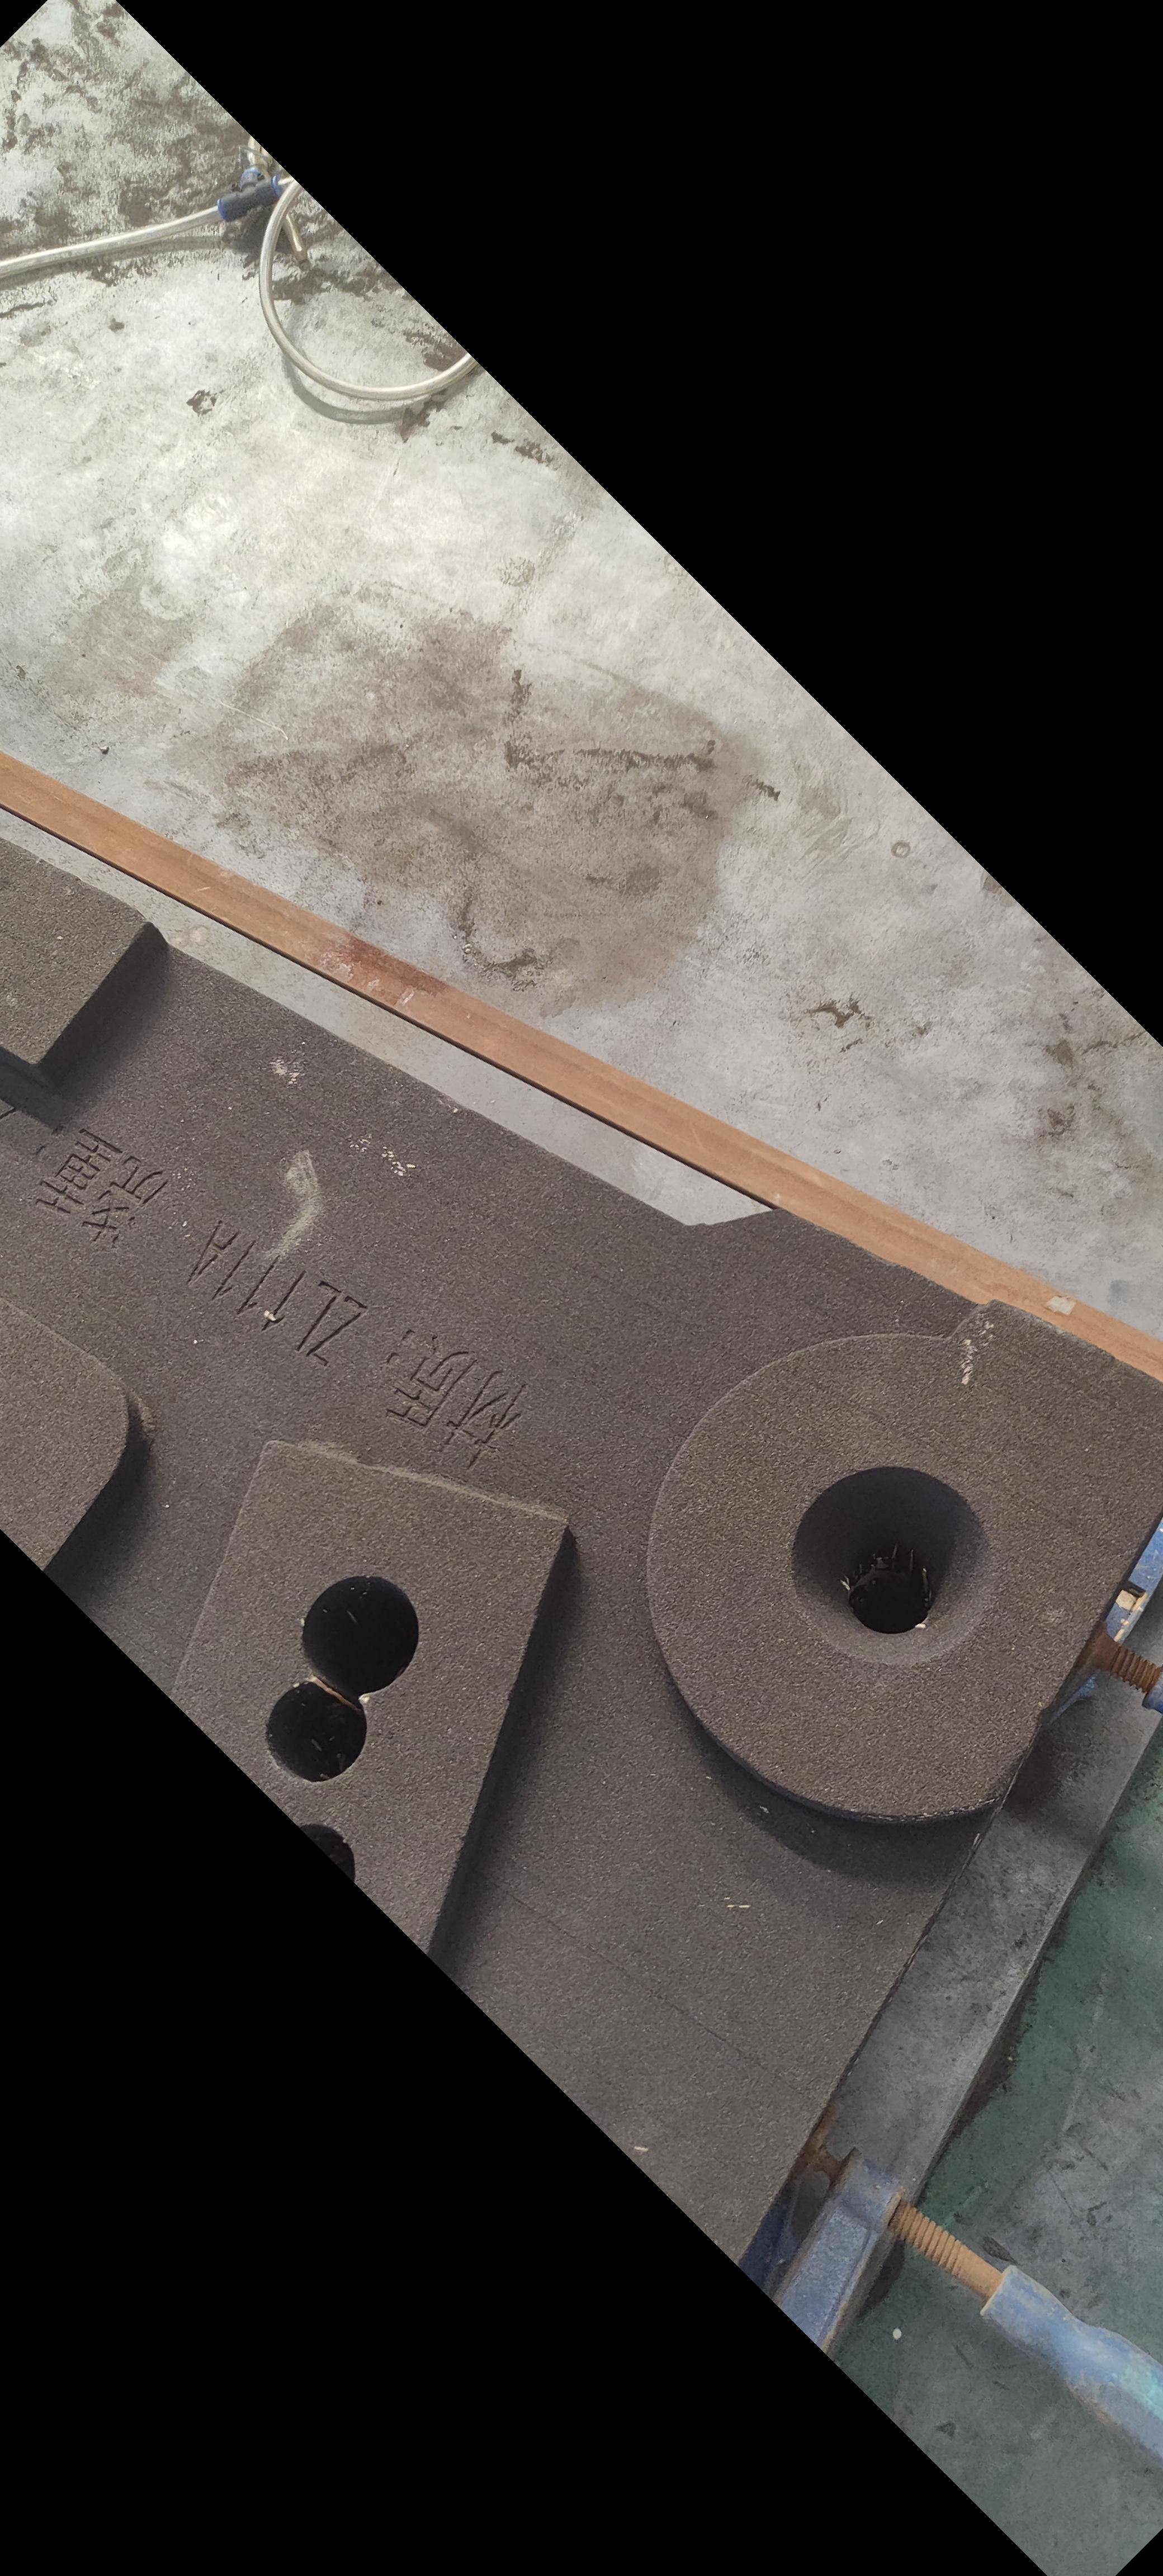pouring hole: (784, 1465, 995, 1668)
